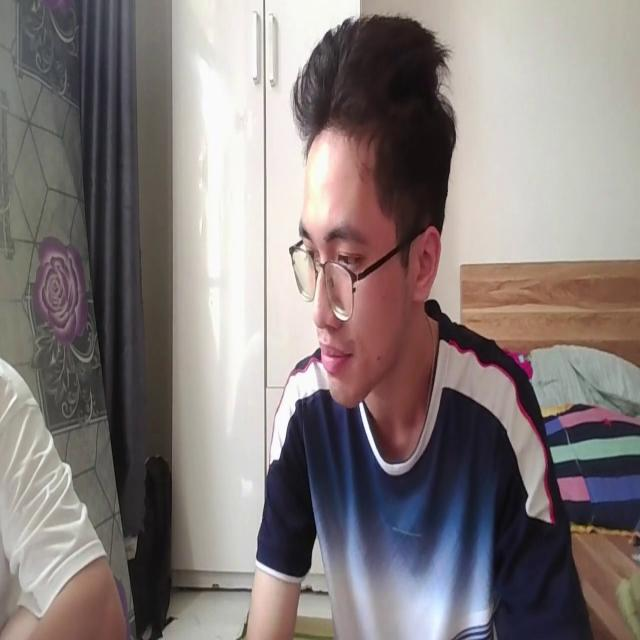student: (243, 10, 592, 640)
